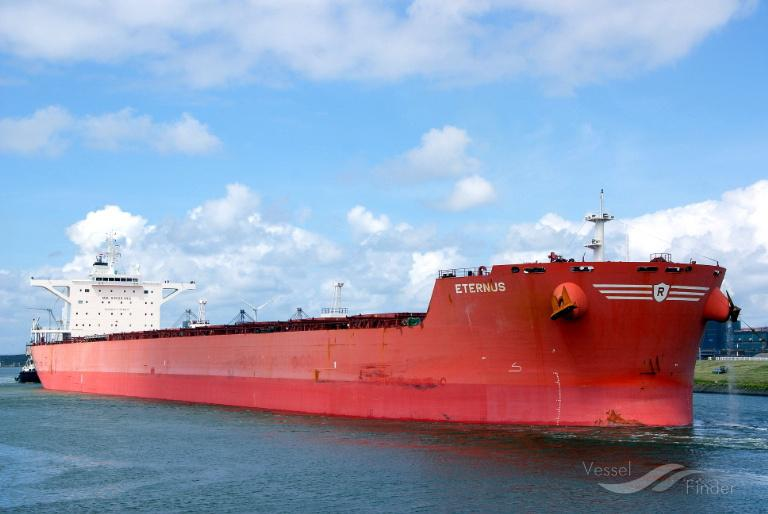OCR: (441, 276, 517, 300)
